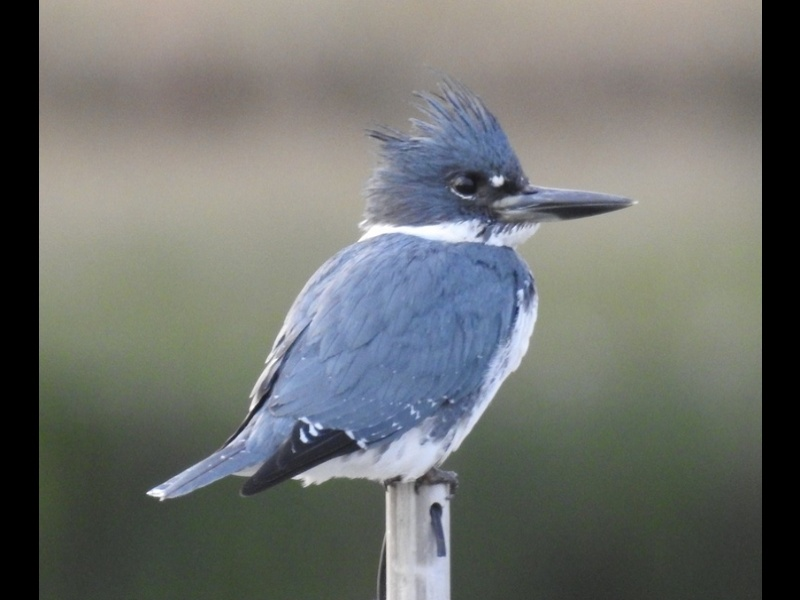kingfisher: (141, 79, 643, 509)
